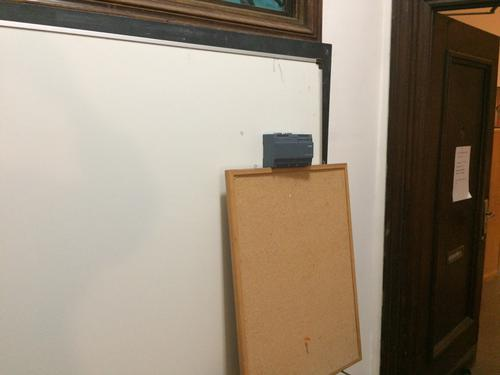iot2000: (261, 132, 316, 170)
